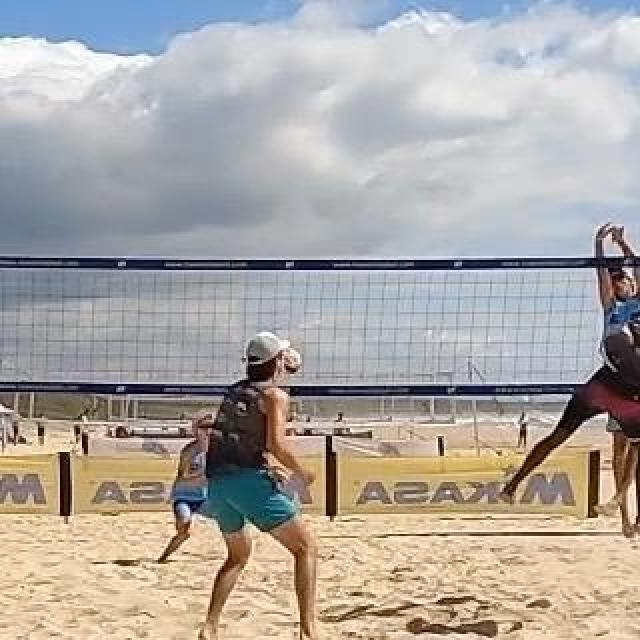volleyball: (276, 346, 302, 376)
